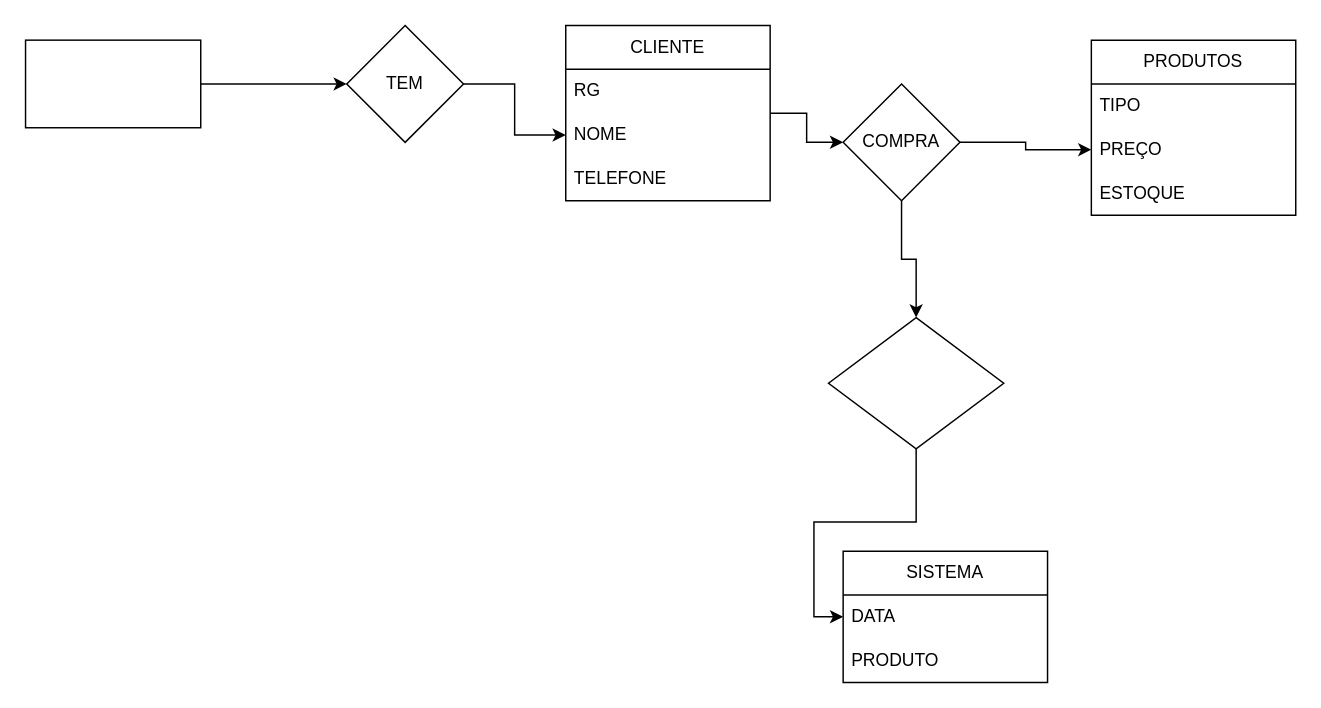
Some shapes in this 1321 by 708 pixel diagram are drawn without their labels. Here are the shapes that lost their labels. From the top down, the centre of each, then its label:
(112,83): FLORICULTURA
(915,382): armazenamento
